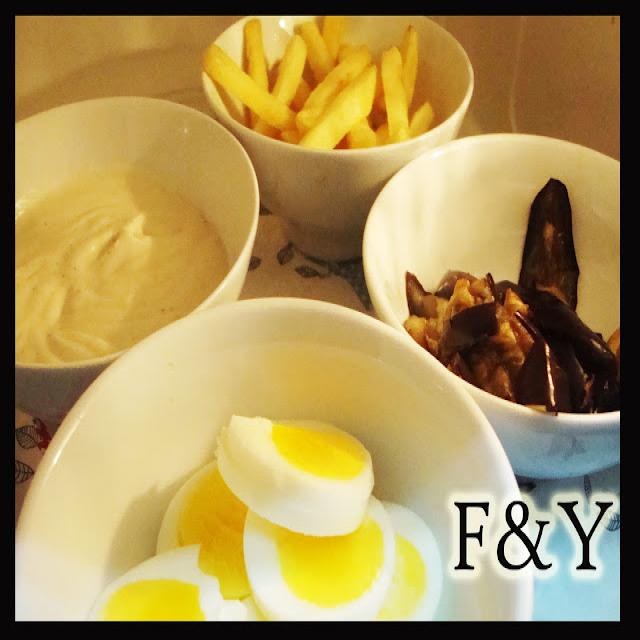French Fries: (199, 16, 446, 149)
